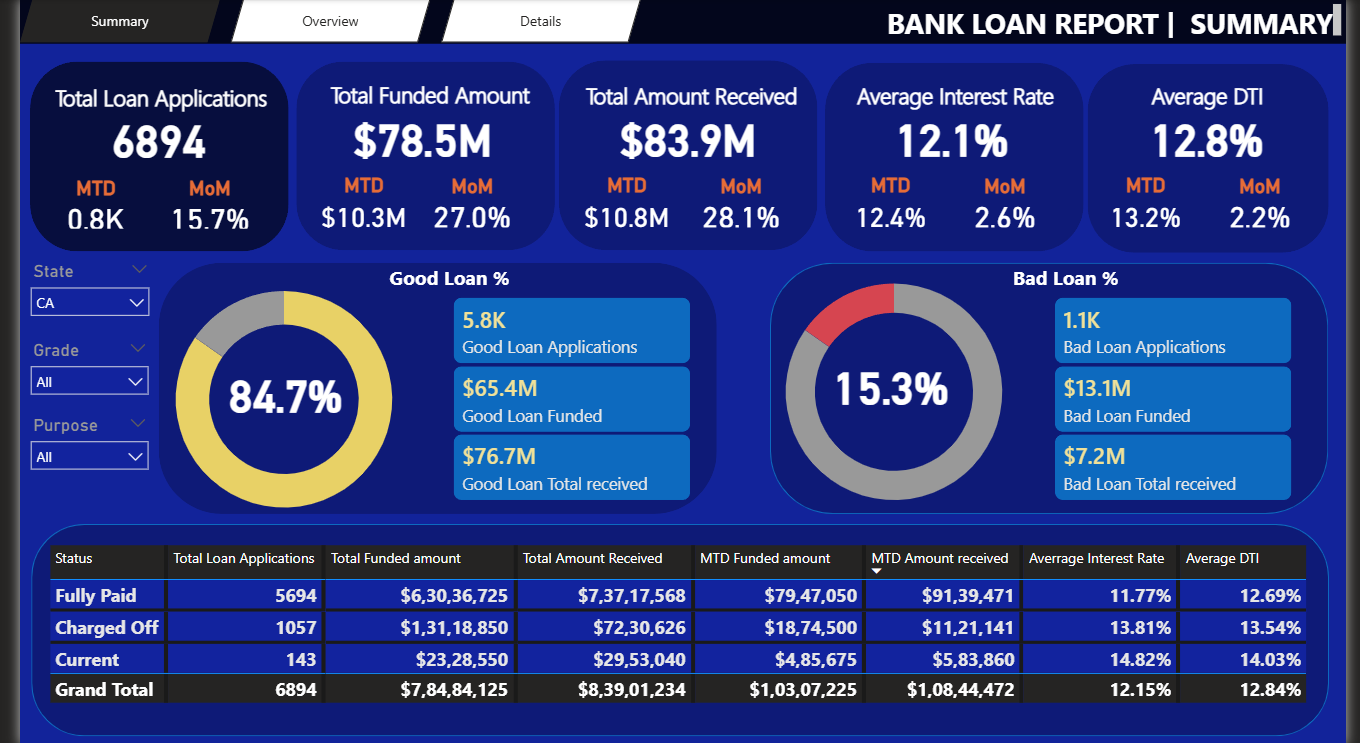

What the dashboard file says about the page in this screenshot:
{"tool":"powerbi","page":{"name":"Summary","canvas":[1280,720],"ordinal":0},"visuals":[{"type":"shape","box":[133.8,255,538.8,242.5],"z":0},{"type":"card","fields":{"Values":["Sum(bank_loan_data.total_payment)"]},"box":[549.4,102.1,191.7,58.8],"z":1000,"group":"g3"},{"type":"card","fields":{"Values":["bank_loan_data.Averrage Interest Rate"]},"box":[804,102.3,191.7,58.8],"z":1000,"group":"g4"},{"type":"card","fields":{"Values":["bank_loan_data.Average DTI"]},"box":[1050.4,102.3,191.7,58.8],"z":1000,"group":"g5"},{"type":"card","fields":{"Values":["bank_loan_data.Total Funded amount"]},"box":[297.7,102.5,181.2,58.8],"z":1000,"group":"g2"},{"type":"card","fields":{"Values":["bank_loan_data.Total Loan Applications"]},"box":[61.5,105,145,57.5],"z":1000,"group":"g1"},{"type":"donutChart","fields":{"Category":["bank_loan_data.Good Loan VS Bad Loan"],"Y":["bank_loan_data.Total Loan Applications"]},"box":[105,251.2,300,271.2],"z":1000},{"type":"shape","box":[9.7,60.3,249.7,183.4],"z":2000},{"type":"textbox","box":[0,0,1280,42.9],"z":3000},{"type":"textbox","box":[287,72.8,217.5,42.5],"z":3000,"group":"g2"},{"type":"textbox","box":[533.2,73.4,230,42.5],"z":3000,"group":"g3"},{"type":"textbox","box":[787.8,73.6,230,42.5],"z":3000,"group":"g4"},{"type":"textbox","box":[1034.2,73.6,230,42.5],"z":3000,"group":"g5"},{"type":"textbox","box":[29,75,217.5,42.5],"z":3000,"group":"g1"},{"type":"card","fields":{"Values":["bank_loan_data.Good Loan %"]},"box":[181.2,350,151.2,58.8],"z":4000},{"type":"shape","box":[266.6,60.3,249.7,182.2],"z":5000},{"type":"card","title":"MTD","fields":{"Values":["bank_loan_data.MTD Amount received"]},"box":[534.5,168.4,102.6,57],"z":5000,"group":"g3"},{"type":"card","title":"MTD","fields":{"Values":["bank_loan_data.MTD Average Interest"]},"box":[789.1,168.6,102.6,57],"z":5000,"group":"g4"},{"type":"card","title":"MTD","fields":{"Values":["bank_loan_data.MTD Avergae DTI"]},"box":[1035.5,168.6,102.6,57],"z":5000,"group":"g5"},{"type":"card","title":"MTD","fields":{"Values":["bank_loan_data.MTD Funded amount"]},"box":[283.6,168.8,97,57],"z":5000,"group":"g2"},{"type":"card","title":"MTD","fields":{"Values":["bank_loan_data.MTD Loan Aplications"]},"box":[29,171.2,88.8,55],"z":5000,"group":"g1"},{"type":"group","id":"g1","title":"Group 1","box":[29,75,216.7,151.1],"z":6000},{"type":"card","title":"MoM","fields":{"Values":["bank_loan_data.MOM amount received"]},"box":[648.2,169.6,96.5,55],"z":6000,"group":"g3"},{"type":"card","title":"MoM","fields":{"Values":["bank_loan_data.MOM Average Interest"]},"box":[902.8,169.8,96.5,55],"z":6000,"group":"g4"},{"type":"card","title":"MoM","fields":{"Values":["bank_loan_data.MOM Average DTI"]},"box":[1149.2,169.8,96.5,55],"z":6000,"group":"g5"},{"type":"card","title":"MoM","fields":{"Values":["bank_loan_data.MOM Funded amount"]},"box":[391.1,170,91.2,55],"z":6000,"group":"g2"},{"type":"card","title":"MoM","fields":{"Values":["bank_loan_data.MOM Loan Applications"]},"box":[137.8,171.2,91.2,55],"z":6000,"group":"g1"},{"type":"group","id":"g2","title":"Group 1","box":[283.6,72.8,220.9,153],"z":7000},{"type":"shape","box":[520,59.1,249.7,183.4],"z":8000},{"type":"group","id":"g3","title":"Group 1","box":[533.2,73.4,230,151.1],"z":9000},{"type":"slicer","fields":{"Values":["bank_loan_data.address_state"]},"box":[0,247.5,135,73.8],"z":10000},{"type":"slicer","fields":{"Values":["bank_loan_data.grade"]},"box":[0,323.8,133.8,72.5],"z":11000},{"type":"slicer","fields":{"Values":["bank_loan_data.purpose"]},"box":[0,396.2,133.8,72.5],"z":12000},{"type":"shape","box":[776.9,61.5,249.7,182.2],"z":13000},{"type":"shape","box":[1030.3,62.7,232.8,182.2],"z":14000},{"type":"group","id":"g4","title":"Group 1","box":[787.8,73.6,230.4,150.8],"z":15000},{"type":"group","id":"g5","title":"Group 1","box":[1034.2,73.6,230.4,150.8],"z":16000},{"type":"shape","box":[723.8,255,538.8,242.5],"z":17000},{"type":"textbox","box":[287.5,251.2,255,35],"z":18000},{"type":"cardVisual","fields":{"Data":["bank_loan_data.Good Loan Applications","bank_loan_data.Good Loan Funded","bank_loan_data.Good Loan Total received"]},"box":[413.8,283.8,238.8,207.5],"z":19000},{"type":"cardVisual","fields":{"Data":["bank_loan_data.Bad Loan Applications","bank_loan_data.Bad Loan Funded","bank_loan_data.Bad Loan Total received"]},"box":[993.8,283.8,238.8,207.5],"z":20000},{"type":"donutChart","fields":{"Category":["bank_loan_data.Good Loan VS Bad Loan"],"Y":["bank_loan_data.Total Loan Applications"]},"box":[693.8,243.8,300,271.2],"z":21000},{"type":"textbox","box":[882.5,251.2,255,35],"z":22000},{"type":"card","fields":{"Values":["bank_loan_data.Bad Loan %"]},"box":[765,342.5,151.2,58.8],"z":23000},{"type":"shape","box":[11.2,506.2,1252.5,205],"z":24000},{"type":"tableEx","fields":{"Values":["bank_loan_data.loan_status","bank_loan_data.Total Loan Applications","bank_loan_data.Total Funded amount","bank_loan_data.Total Amount Received","bank_loan_data.MTD Funded amount","bank_loan_data.MTD Amount received","bank_loan_data.Averrage Interest Rate","bank_loan_data.Average DTI"]},"box":[22.5,522.5,1233.8,188.8],"z":25000},{"type":"pageNavigator","box":[0,0,600,42.9],"z":26000}]}

Visuals, with their boxes in screenshot pixels (x1, y1, x2, y2), scaled from the page's 1280x720 canvas onto the 1360x743 screenshot:
shape: locate(142, 263, 715, 513)
card - Sum(bank_loan_data.total_payment): locate(584, 105, 787, 166)
card - bank_loan_data.Averrage Interest Rate: locate(854, 106, 1058, 166)
card - bank_loan_data.Average DTI: locate(1116, 106, 1320, 166)
card - bank_loan_data.Total Funded amount: locate(316, 106, 509, 166)
card - bank_loan_data.Total Loan Applications: locate(65, 108, 219, 168)
donutChart - bank_loan_data.Good Loan VS Bad Loan x bank_loan_data.Total Loan Applications: locate(112, 259, 430, 539)
shape: locate(10, 62, 276, 251)
textbox: locate(0, 0, 1359, 44)
textbox: locate(305, 75, 536, 119)
textbox: locate(567, 76, 811, 120)
textbox: locate(837, 76, 1081, 120)
textbox: locate(1099, 76, 1343, 120)
textbox: locate(31, 77, 262, 121)
card - bank_loan_data.Good Loan %: locate(193, 361, 353, 422)
shape: locate(283, 62, 549, 250)
"MTD" card: locate(568, 174, 677, 233)
"MTD" card: locate(838, 174, 947, 233)
"MTD" card: locate(1100, 174, 1209, 233)
"MTD" card: locate(301, 174, 404, 233)
"MTD" card: locate(31, 177, 125, 233)
"Group 1" group: locate(31, 77, 261, 233)
"MoM" card: locate(689, 175, 791, 232)
"MoM" card: locate(959, 175, 1062, 232)
"MoM" card: locate(1221, 175, 1324, 232)
"MoM" card: locate(416, 175, 512, 232)
"MoM" card: locate(146, 177, 243, 233)
"Group 1" group: locate(301, 75, 536, 233)
shape: locate(552, 61, 818, 250)
"Group 1" group: locate(567, 76, 811, 232)
slicer - bank_loan_data.address_state: locate(0, 255, 143, 332)
slicer - bank_loan_data.grade: locate(0, 334, 142, 409)
slicer - bank_loan_data.purpose: locate(0, 409, 142, 484)
shape: locate(825, 63, 1091, 251)
shape: locate(1095, 65, 1342, 253)
"Group 1" group: locate(837, 76, 1082, 232)
"Group 1" group: locate(1099, 76, 1344, 232)
shape: locate(769, 263, 1342, 513)
textbox: locate(305, 259, 576, 295)
cardVisual - bank_loan_data.Good Loan Applications x bank_loan_data.Good Loan Funded: locate(440, 293, 693, 507)
cardVisual - bank_loan_data.Bad Loan Applications x bank_loan_data.Bad Loan Funded: locate(1056, 293, 1310, 507)
donutChart - bank_loan_data.Good Loan VS Bad Loan x bank_loan_data.Total Loan Applications: locate(737, 252, 1056, 531)
textbox: locate(938, 259, 1209, 295)
card - bank_loan_data.Bad Loan %: locate(813, 353, 973, 414)
shape: locate(12, 522, 1343, 734)
tableEx - bank_loan_data.loan_status x bank_loan_data.Total Loan Applications: locate(24, 539, 1335, 734)
pageNavigator: locate(0, 0, 638, 44)
